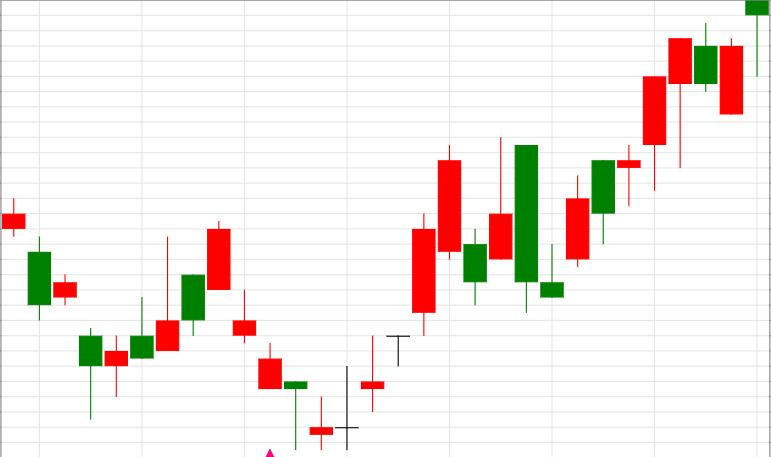hanging_man_fall: (566, 39, 693, 268)
